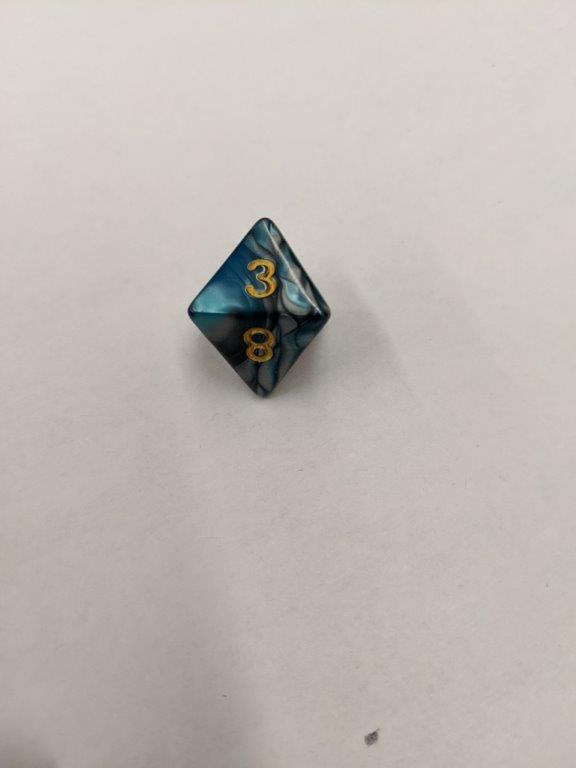d8-3: (186, 218, 331, 401)
